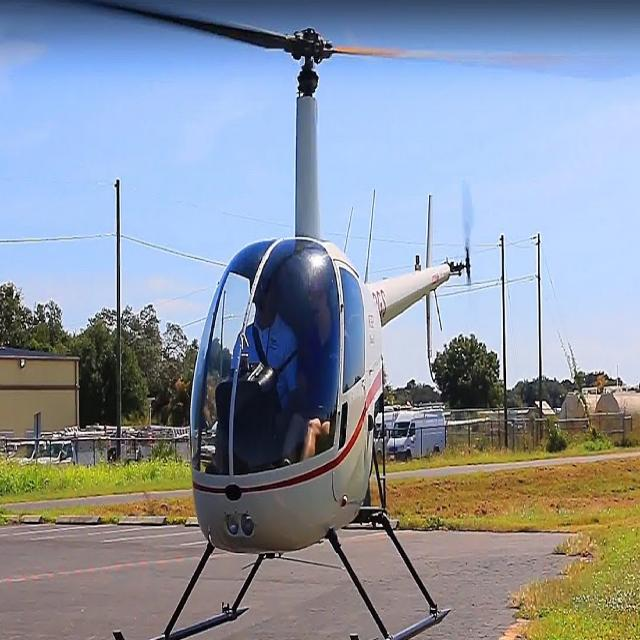helicopter: (112, 1, 640, 640)
